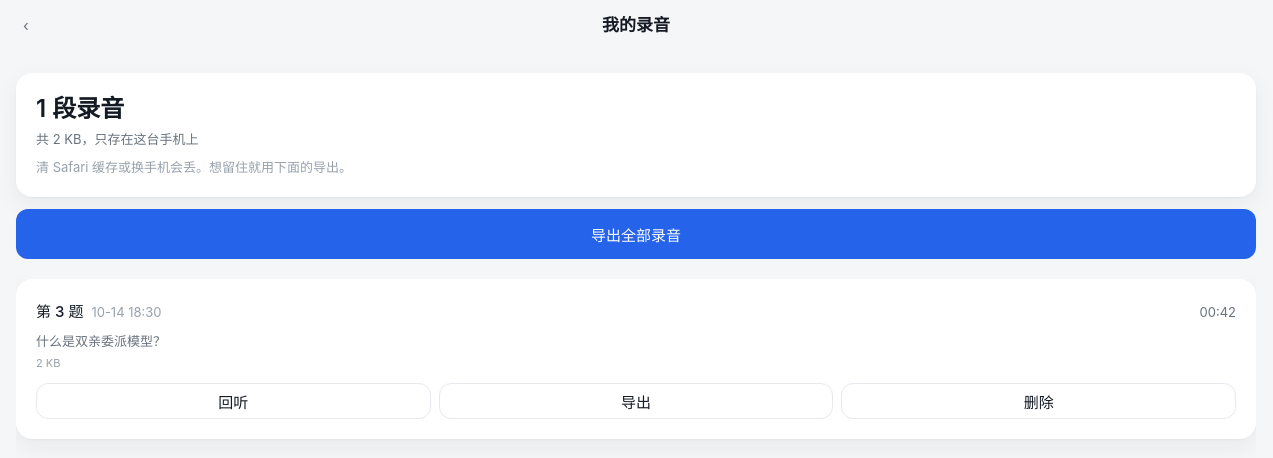
Test: Clips · 删除 › 要点二次确认才真删
The image size is (1273, 458).
Check: the text "1 段录音" is shown, box top-left (36, 94), bottom-right (124, 123)
Click the button "删除": {"x": 1039, "y": 401} top-left (841, 383), bottom-right (1236, 419)
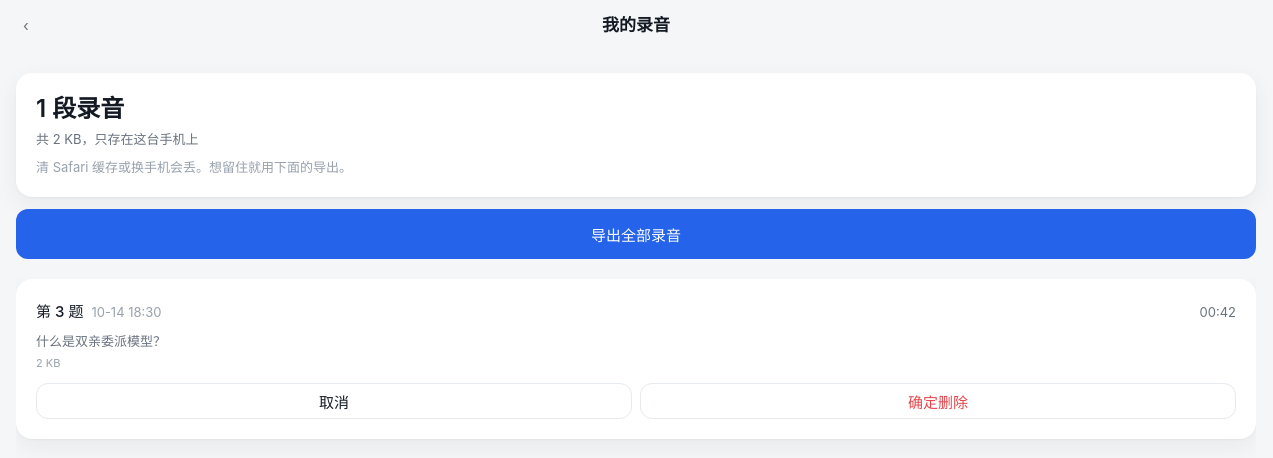
Click the button "确定删除": {"x": 938, "y": 401} top-left (640, 383), bottom-right (1236, 419)
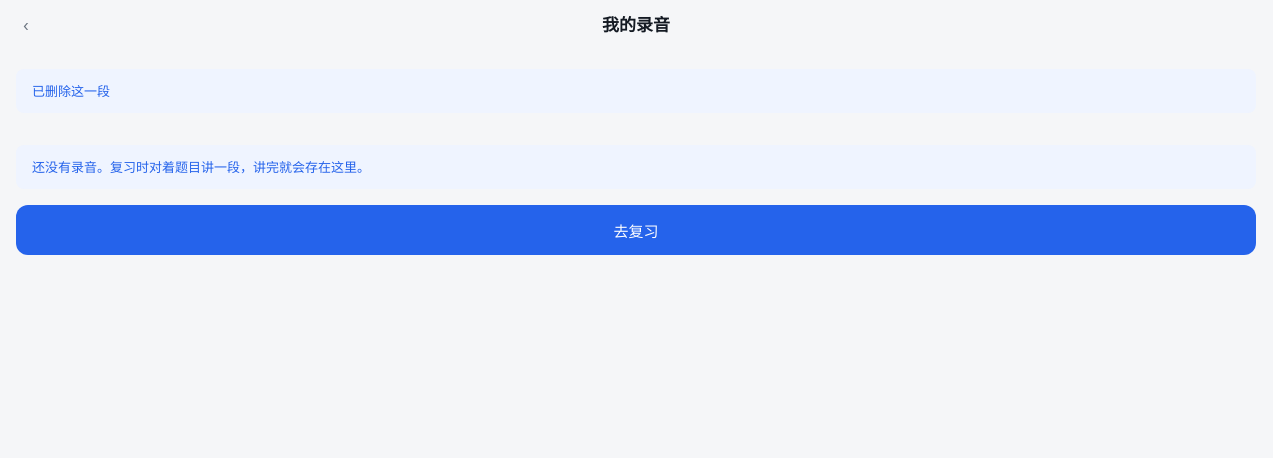
Check: the text "还没有录音。复习时对着题目讲一段，讲完就会存在这里。" is shown, box top-left (16, 145), bottom-right (1256, 189)
